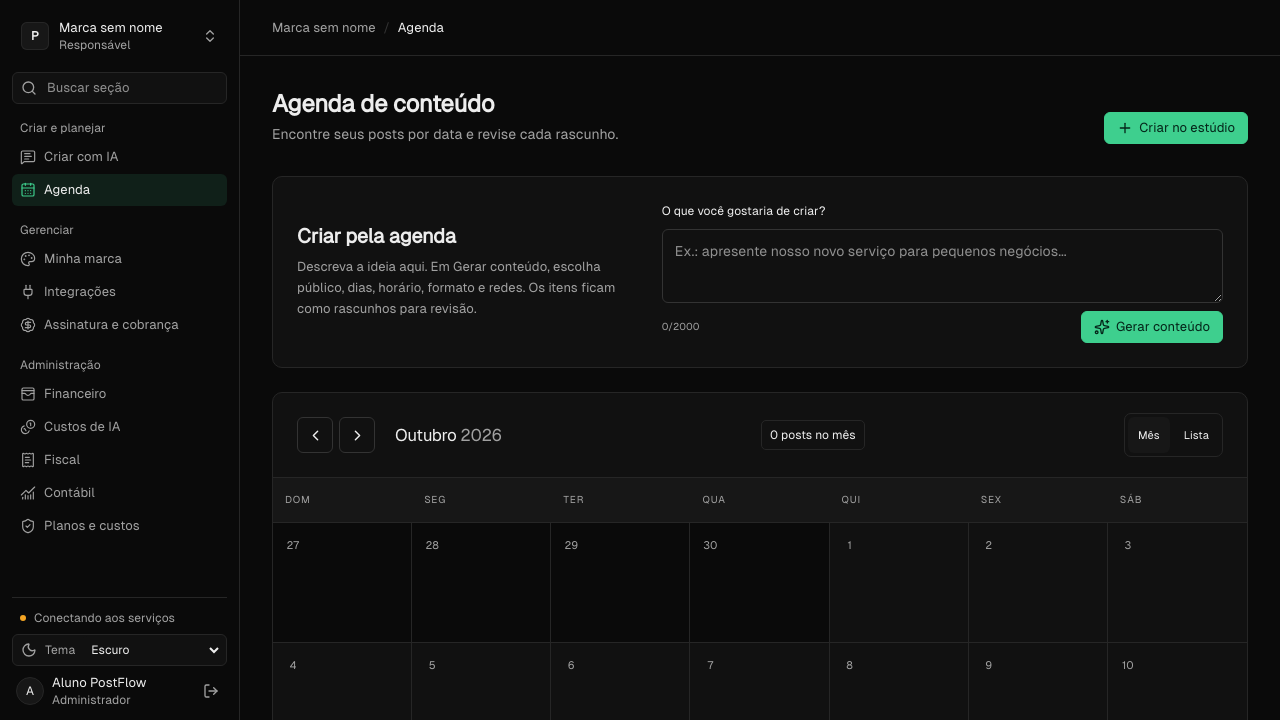
CalendarPage › abre a sidebar de geração e fecha com Escape e backdrop
The width and height of the screenshot is (1280, 720).
Click the button "Gerar conteúdo" at (1152, 327), box [1081, 311, 1223, 343]
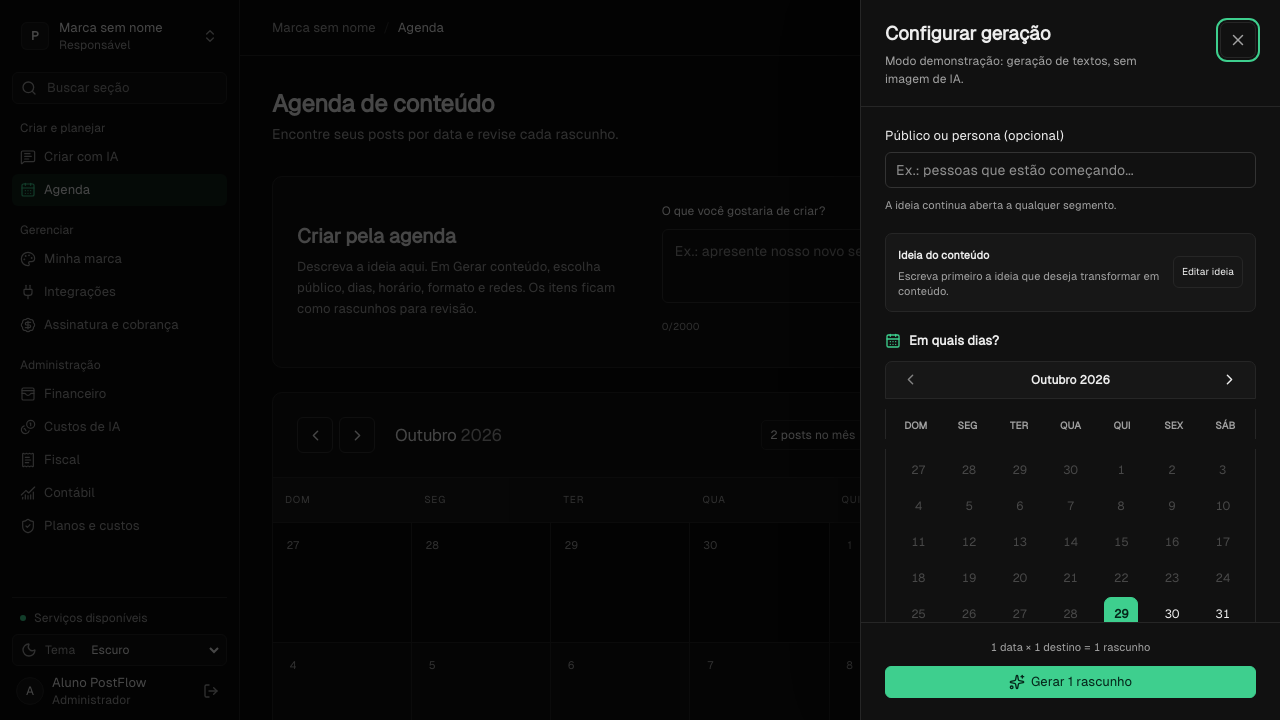
expect the dialog "Configurar geração" is shown: met, box [860, 0, 1279, 719]
Press Escape
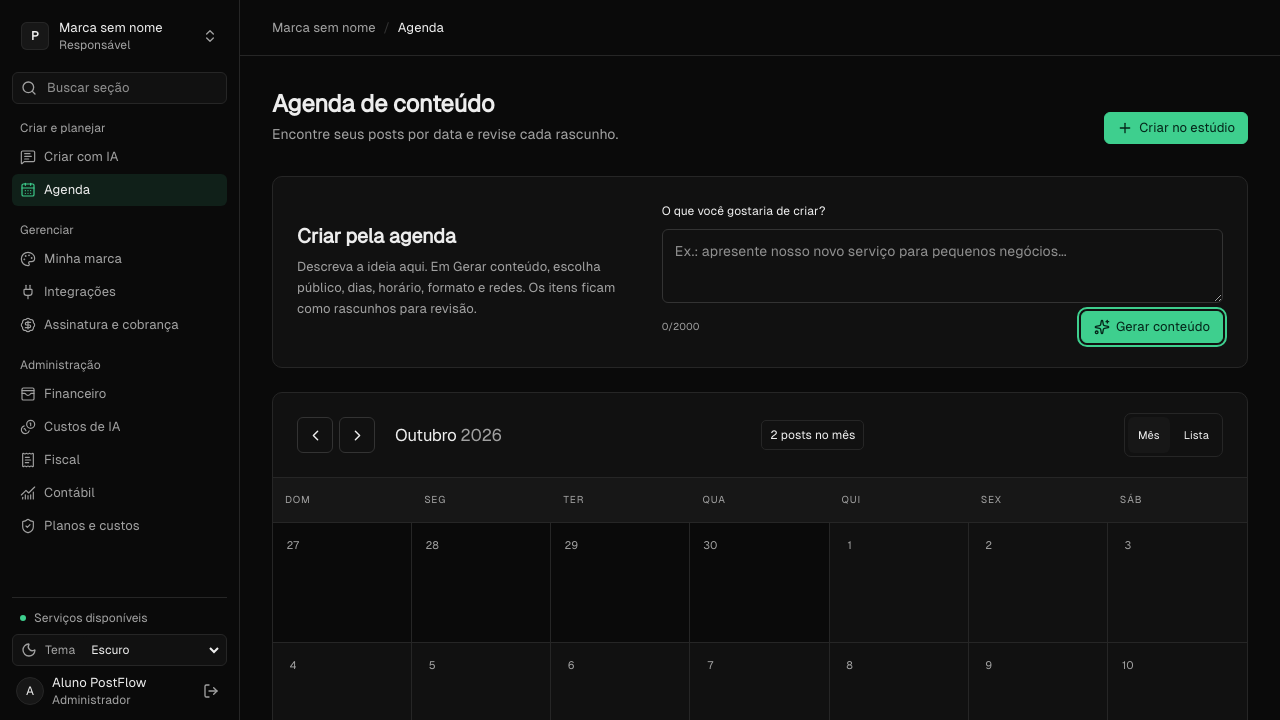
expect the heading "Configurar geração" is gone: met
Click the button "Gerar conteúdo" at (1152, 327), box [1081, 311, 1223, 343]
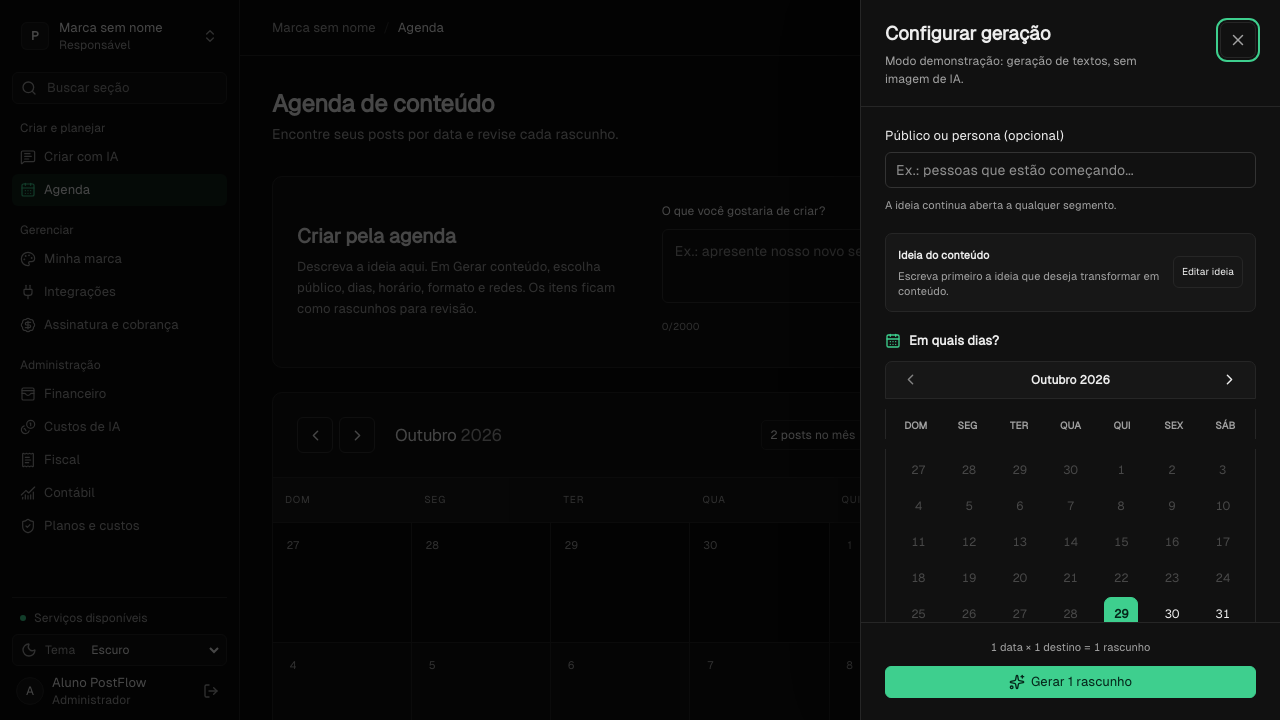
Click the element that starts with "Configurar geração" at (640, 360), box [0, 0, 1279, 719]
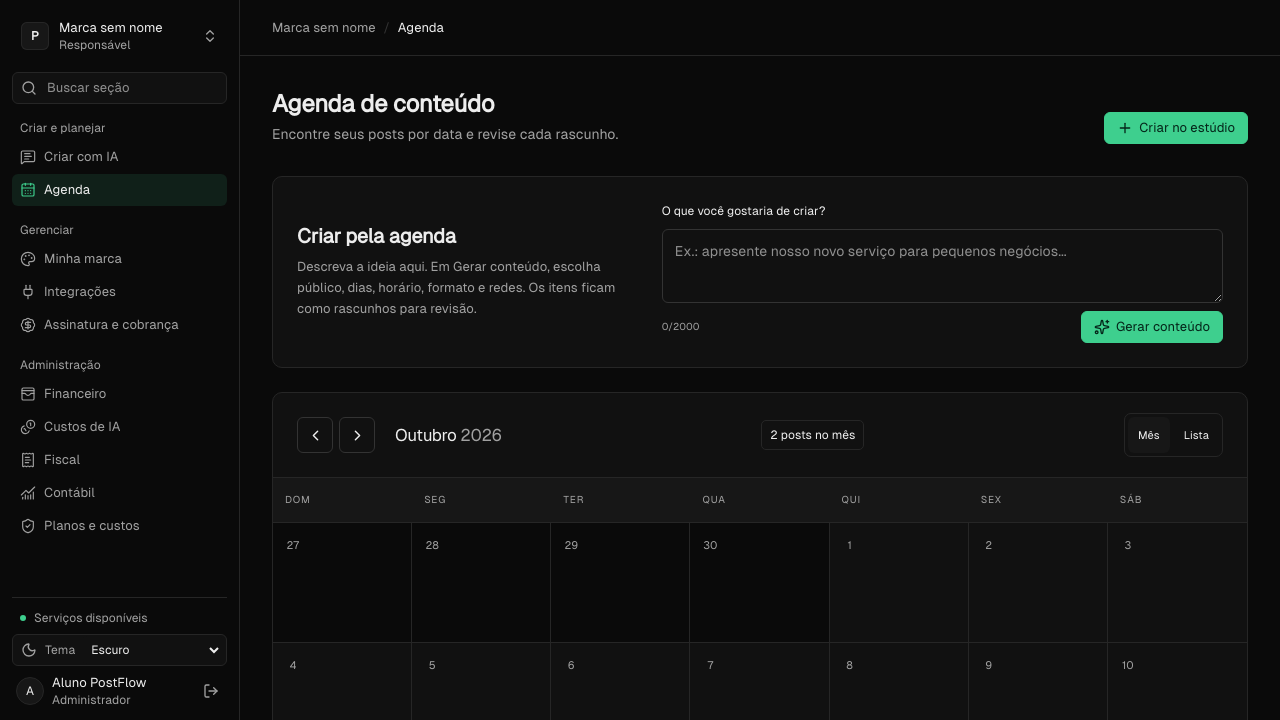
expect the heading "Configurar geração" is gone: met
